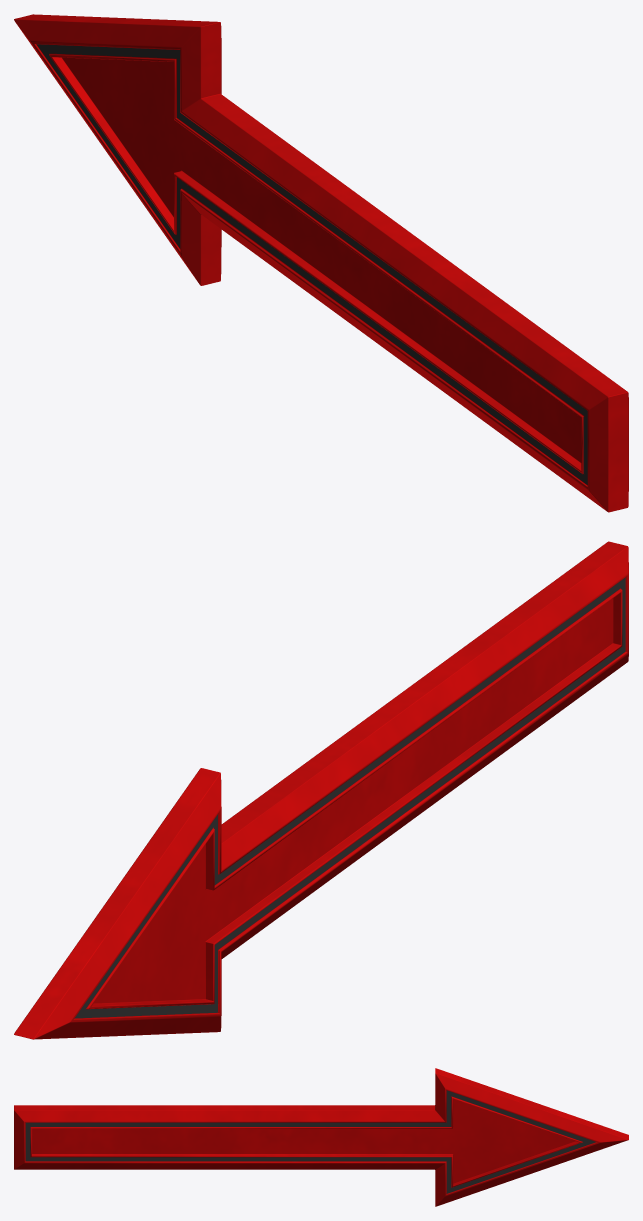
Rendered from RaceArrow.fbx.
3 renders of one model, top to bottom at view 1: azimuth 30°, elevation 25°; view 2: azimuth 150°, elevation 25°; view 3: azimuth 270°, elevation 25°, orthographic. The views are drawn at different scales.
Parts seen in each view (by area): view 1: RaceArrow; view 2: RaceArrow; view 3: RaceArrow.
Part boxes in pixels (bbox=[...]): RaceArrow: bbox=[14, 14, 628, 512]; RaceArrow: bbox=[14, 541, 628, 1039]; RaceArrow: bbox=[14, 1068, 628, 1206].
Size of the model in its own units: 1.08 by 6.68 by 27.76.
